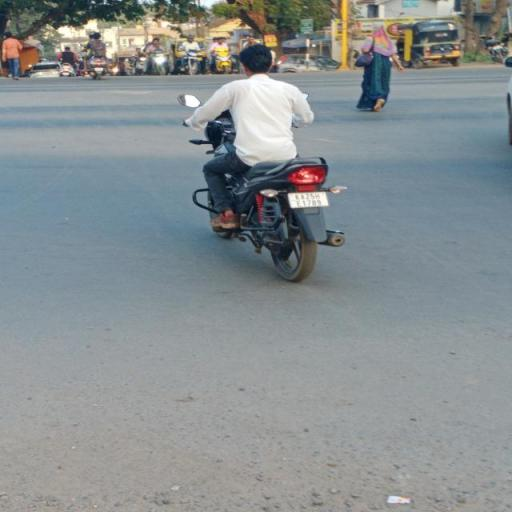bike: (168, 40, 355, 284)
numberplate: (286, 190, 328, 211)
withouthelmet: (242, 46, 272, 73)
